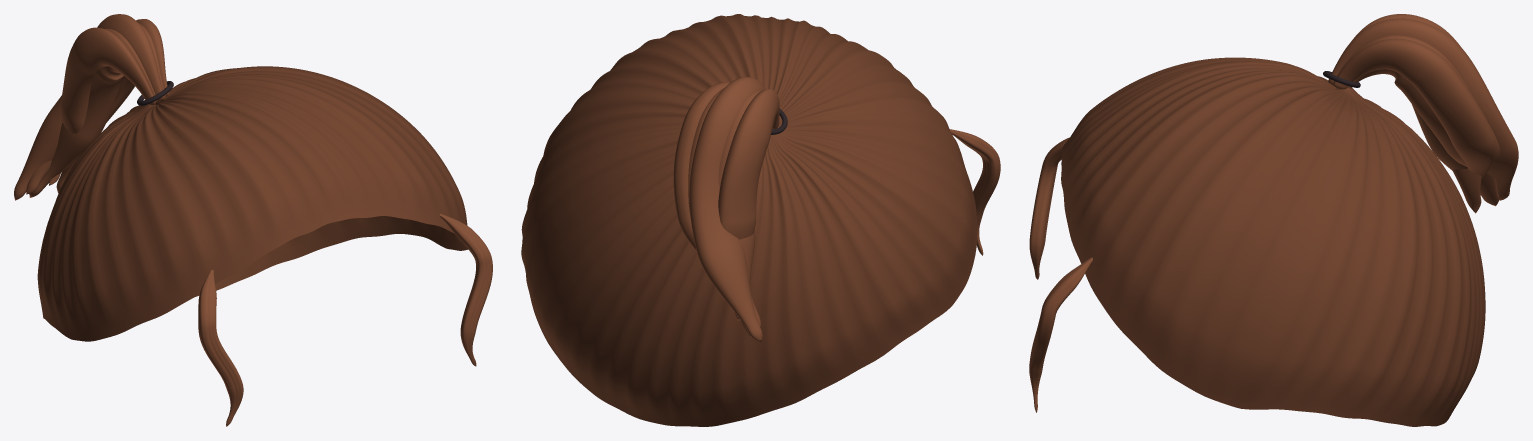
Rendered from Feminine-Feminine-uncovered-hair-764dfc05.glb.
3 renders of one model, left to right at view 1: azimuth 30°, elevation 25°; view 2: azimuth 150°, elevation 25°; view 3: azimuth 270°, elevation 25°, orthographic. The views are drawn at different scales.
Parts seen in each view (by area): view 1: Hair / swept roots220, Hair / rounded tail220 0, Hair / rounded tail220 1, Hair / rounded tail220 2, Hair / adjustable front216 -1, Hair / adjustable front216 1, Hair / rounded tail220 3, Hair / rounded tail220 4; view 2: Hair / swept roots220, Hair / rounded tail220 2, Hair / rounded tail220 0, Hair / rounded tail220 4, Hair / adjustable front216 -1, Hair / rounded tail220 1, Hair / rounded tail220 3; view 3: Hair / swept roots220, Hair / rounded tail220 4, Hair / rounded tail220 2, Hair / adjustable front216 1, Hair / rounded tail220 3, Hair / adjustable front216 -1, Hair / rounded tail220 0, Hair / rounded tail220 1.
Boxes of the visible parts, left/top/right/bottom form: Hair / swept roots220: left=37, top=66, right=467, bottom=341; Hair / rounded tail220 0: left=56, top=27, right=156, bottom=193; Hair / rounded tail220 1: left=29, top=28, right=157, bottom=197; Hair / rounded tail220 2: left=14, top=14, right=165, bottom=200; Hair / adjustable front216 -1: left=198, top=269, right=243, bottom=426; Hair / adjustable front216 1: left=440, top=213, right=492, bottom=366; Hair / rounded tail220 3: left=26, top=23, right=166, bottom=194; Hair / rounded tail220 4: left=49, top=19, right=169, bottom=185; Hair / swept roots220: left=521, top=14, right=977, bottom=426; Hair / rounded tail220 2: left=689, top=77, right=764, bottom=342; Hair / rounded tail220 0: left=718, top=88, right=779, bottom=320; Hair / rounded tail220 4: left=673, top=82, right=730, bottom=251; Hair / adjustable front216 -1: left=949, top=129, right=1000, bottom=255; Hair / rounded tail220 1: left=718, top=90, right=772, bottom=336; Hair / rounded tail220 3: left=688, top=88, right=760, bottom=327; Hair / swept roots220: left=1061, top=57, right=1485, bottom=426; Hair / rounded tail220 4: left=1333, top=38, right=1496, bottom=189; Hair / rounded tail220 2: left=1328, top=18, right=1518, bottom=200; Hair / adjustable front216 1: left=1029, top=257, right=1092, bottom=412; Hair / rounded tail220 3: left=1333, top=35, right=1499, bottom=167; Hair / adjustable front216 -1: left=1029, top=137, right=1069, bottom=279; Hair / rounded tail220 0: left=1352, top=14, right=1481, bottom=213; Hair / rounded tail220 1: left=1412, top=104, right=1499, bottom=206.
Bounding box in the file's own units: 0.7726 × 0.6271 × 0.7903.
